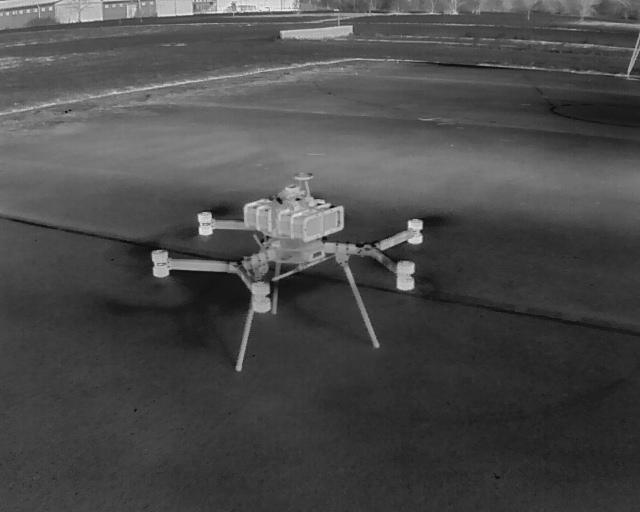drone: (98, 166, 458, 364)
